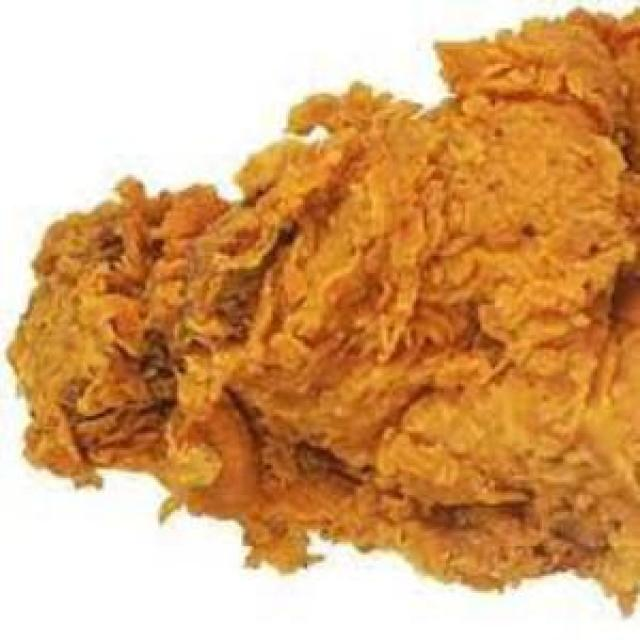Chicken -Fried Chicken-: (19, 8, 640, 589)
